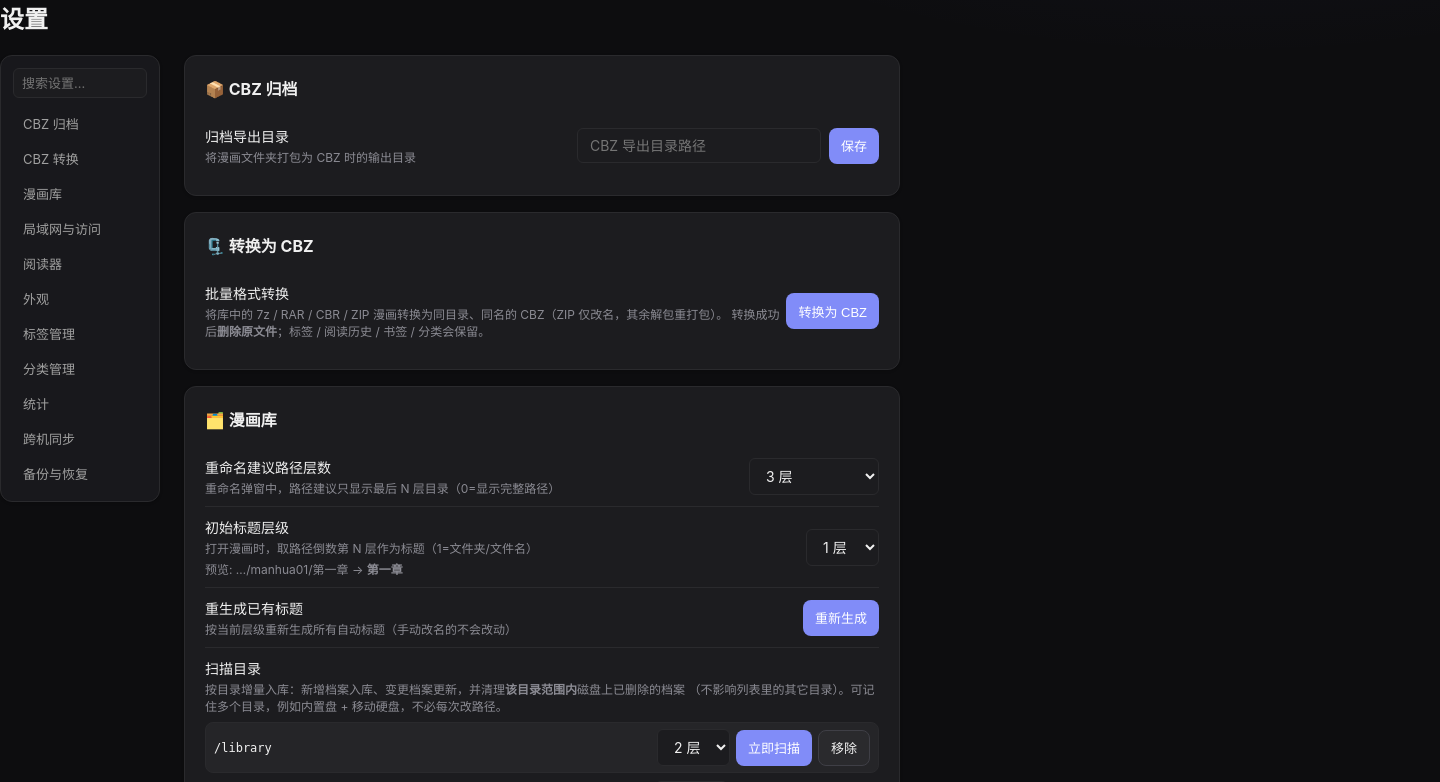
Test: Settings 分区与搜索 › 搜不到时给出明确空态，而不是一片空白
Type "zzzz不存在" into the field named "搜索设置项" at (80, 83), box x1=13 y1=68 x2=147 y2=98
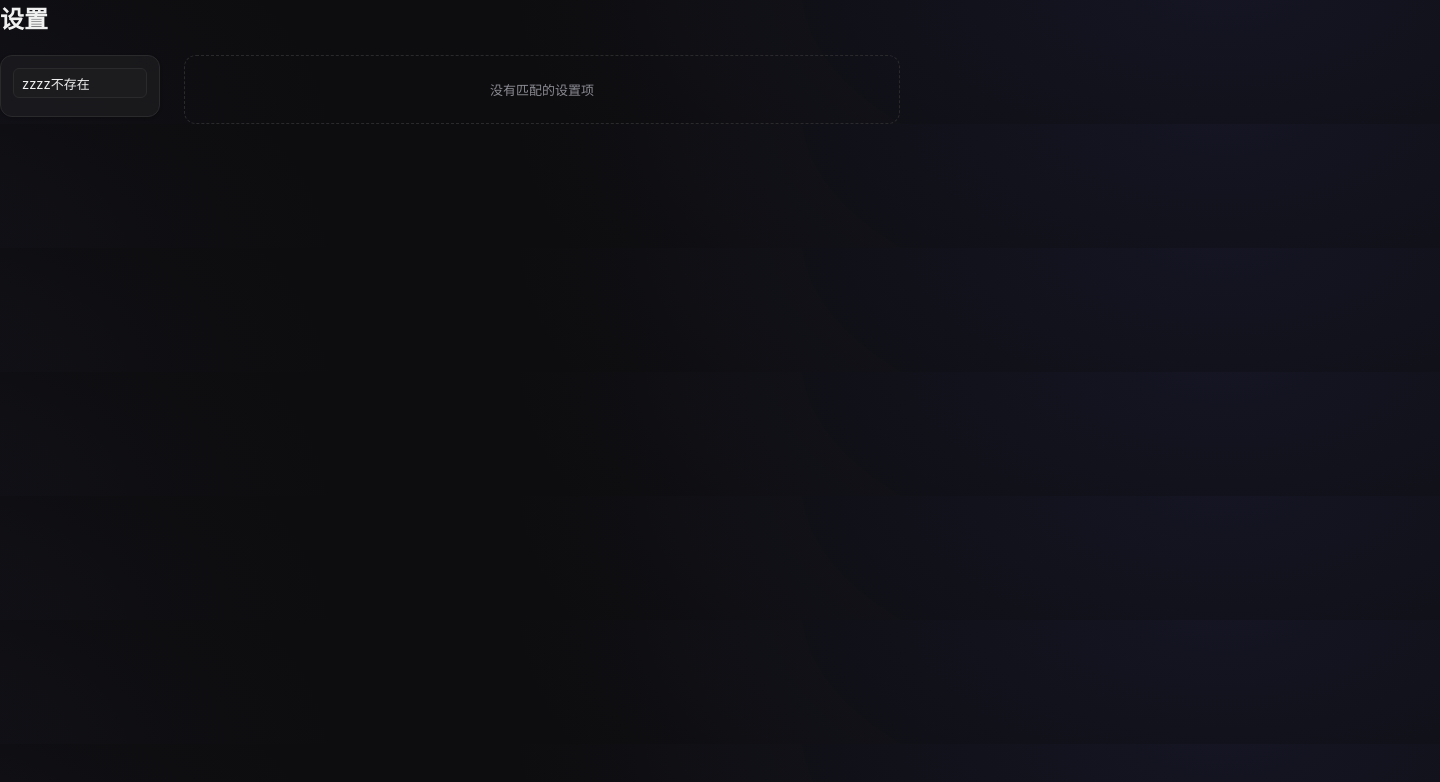
Expected: the text "没有匹配的设置项" is shown, x1=184 y1=55 x2=900 y2=124
